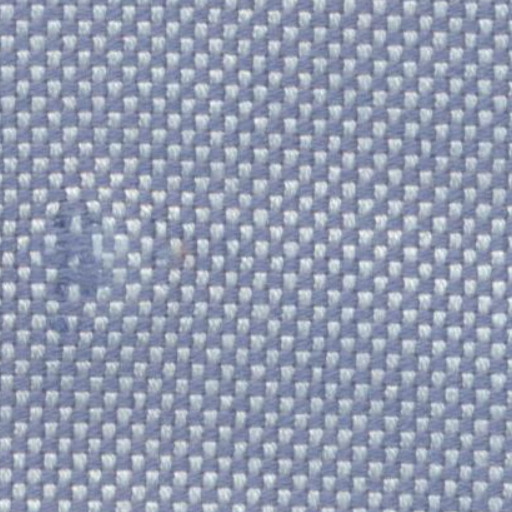DaiSha: (40, 163, 104, 342)
